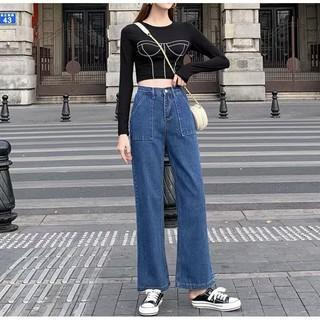pants: (123, 83, 220, 290)
sweater: (102, 18, 234, 135)
